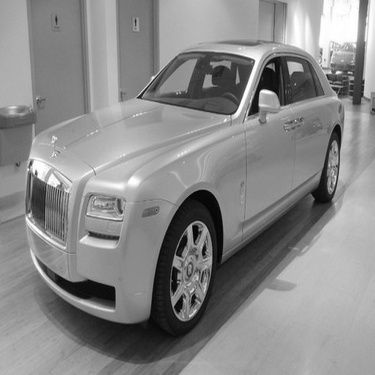car: (16, 30, 352, 343), (313, 44, 362, 78)
